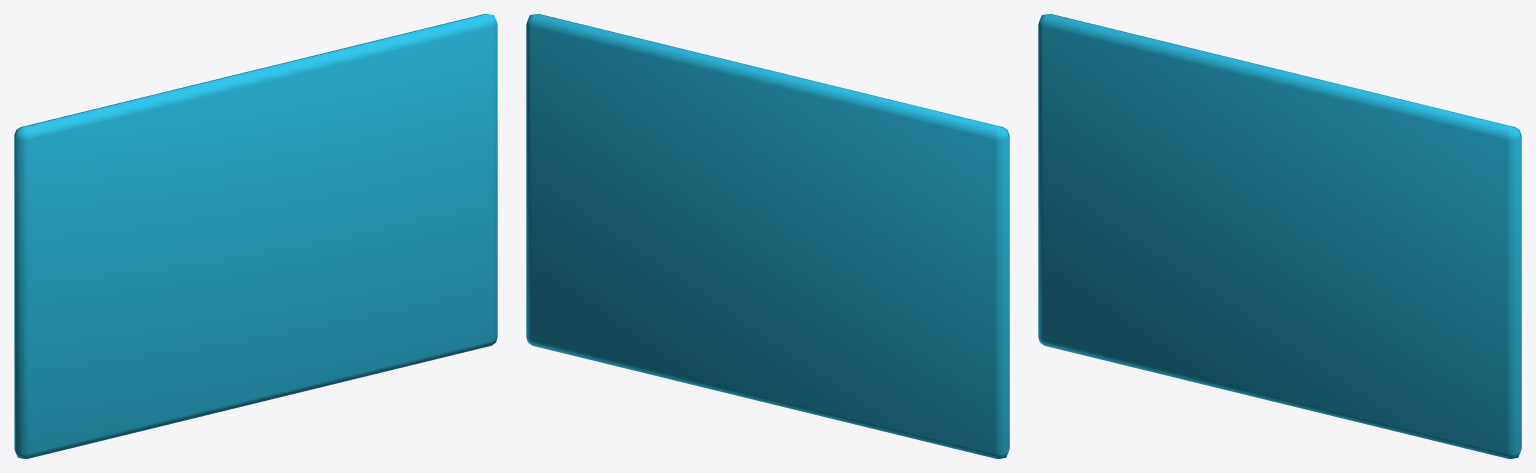
Rendered from GEO_HATCHBACK_Tailgate_Hatch.glb.
3 views of the same model, side by side, from view 1: azimuth 30°, elevation 25°; view 2: azimuth 150°, elevation 25°; view 3: azimuth 330°, elevation 25° (orthographic).
Parts seen in each view (by area): view 1: GEO_HATCHBACK_Tailgate_Hatch; view 2: GEO_HATCHBACK_Tailgate_Hatch; view 3: GEO_HATCHBACK_Tailgate_Hatch.
Boxes of the visible parts, box(x1,y1,x2,y2) form: GEO_HATCHBACK_Tailgate_Hatch: box(14, 14, 497, 458); GEO_HATCHBACK_Tailgate_Hatch: box(526, 14, 1009, 458); GEO_HATCHBACK_Tailgate_Hatch: box(1038, 14, 1521, 458).
Bounding box in the file's own units: 1.37 × 0.9016 × 0.05.
